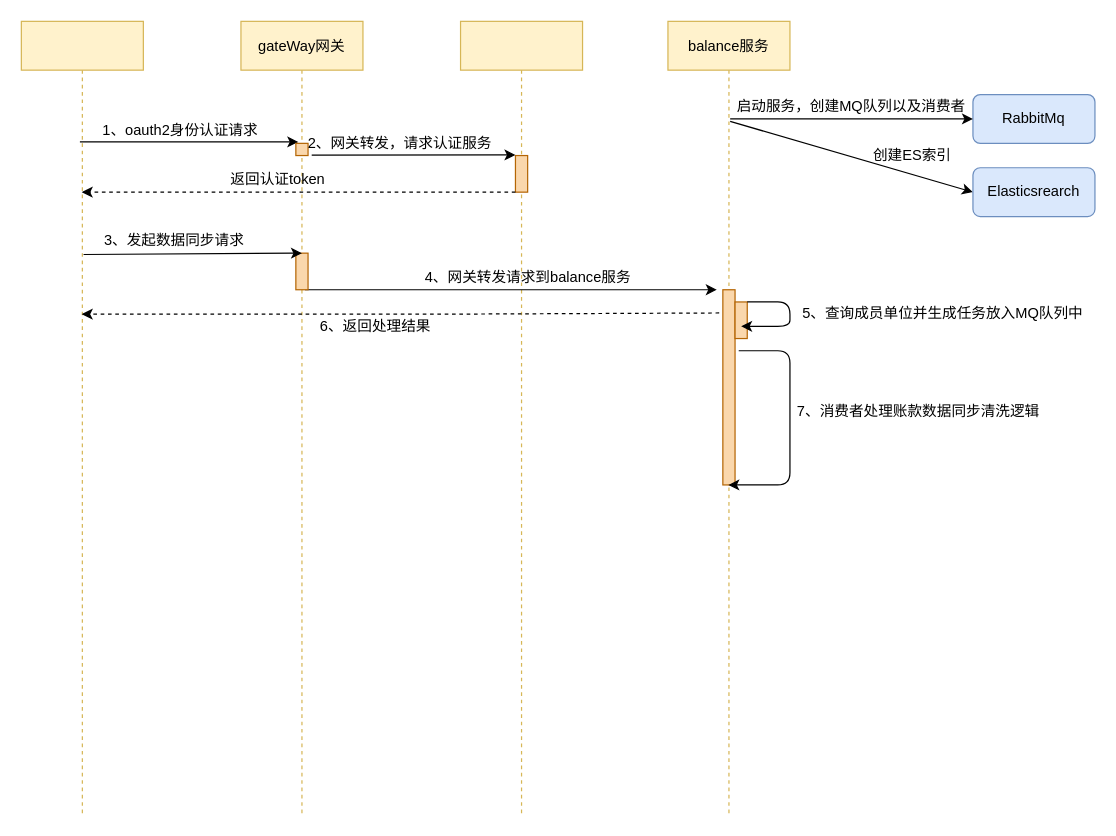
Image size: 1116x836. Some labels were removed from this diagram. The box of each missing label's shape, as (x1, y1, x2, y2) in pixels:
auth认证服务: (459, 20, 583, 814)
客户端: (20, 20, 143, 814)
